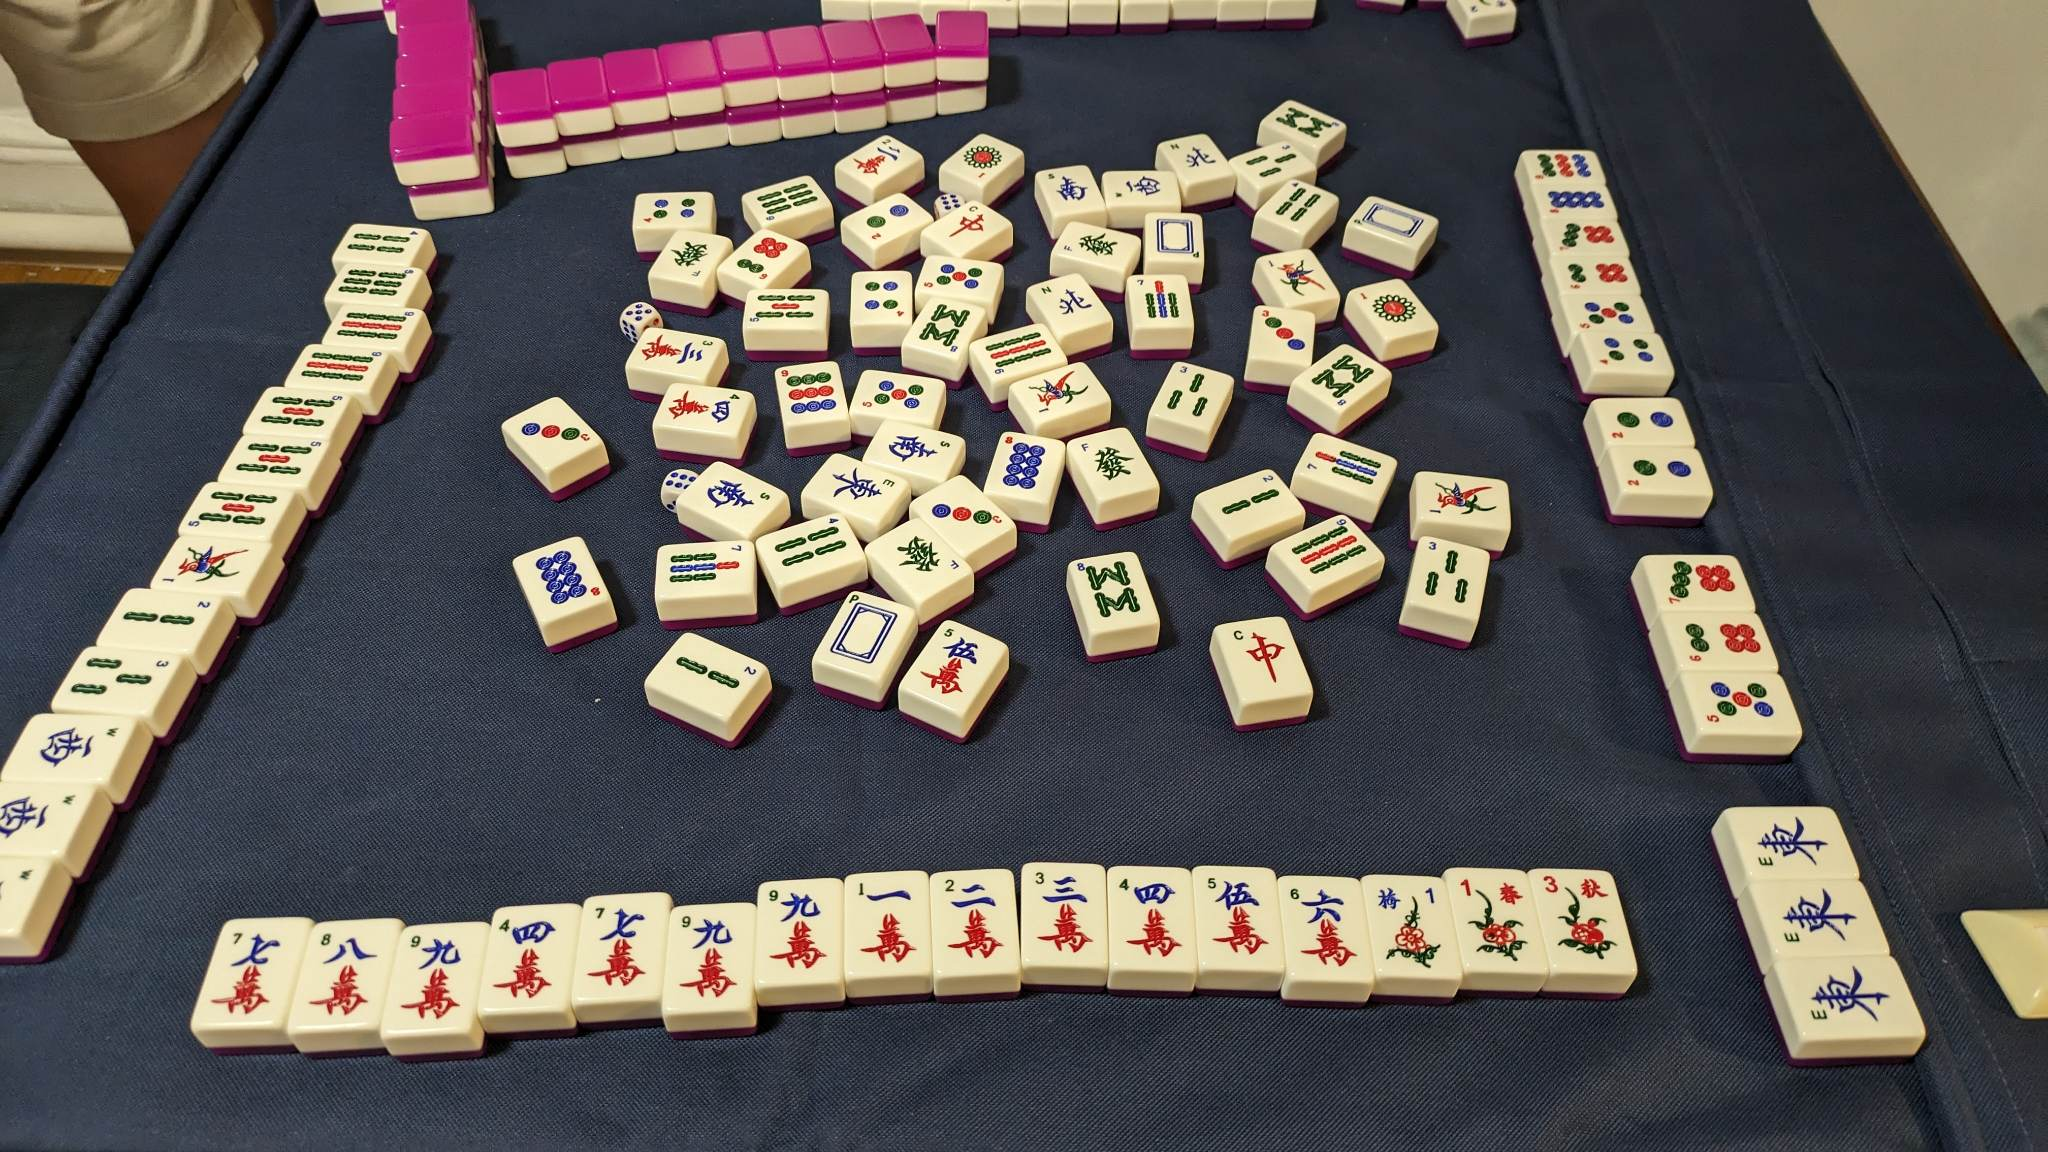character-eight: (305, 926, 377, 1023)
character-five: (1198, 871, 1274, 959)
character-four: (1114, 871, 1189, 964), (492, 911, 560, 1001)
character-nine: (397, 928, 466, 1025), (761, 883, 831, 978), (671, 909, 743, 1000)
character-one: (850, 873, 926, 969)
character-seven: (205, 926, 281, 1020), (585, 899, 653, 992)
character-six: (1286, 881, 1364, 972)
character-three: (1025, 866, 1106, 958)
character-two: (937, 876, 1009, 965)
flower-blue_one: (1371, 882, 1454, 973)
flower-red_one: (1461, 873, 1539, 964)
flower-red_three: (1542, 871, 1629, 966)
